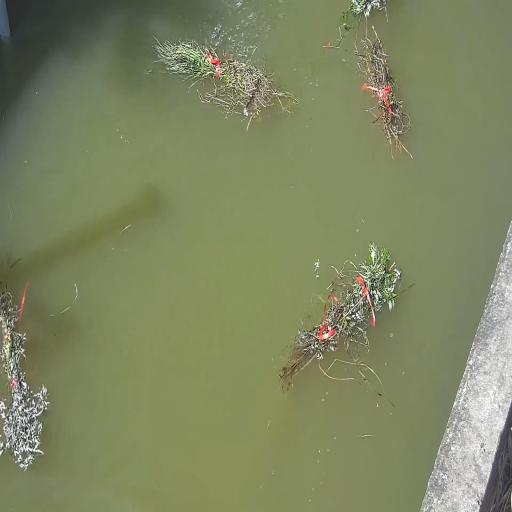twig: (281, 242, 406, 399), (152, 34, 294, 129), (0, 283, 51, 471), (356, 26, 412, 162), (331, 0, 390, 48), (338, 4, 355, 40)
